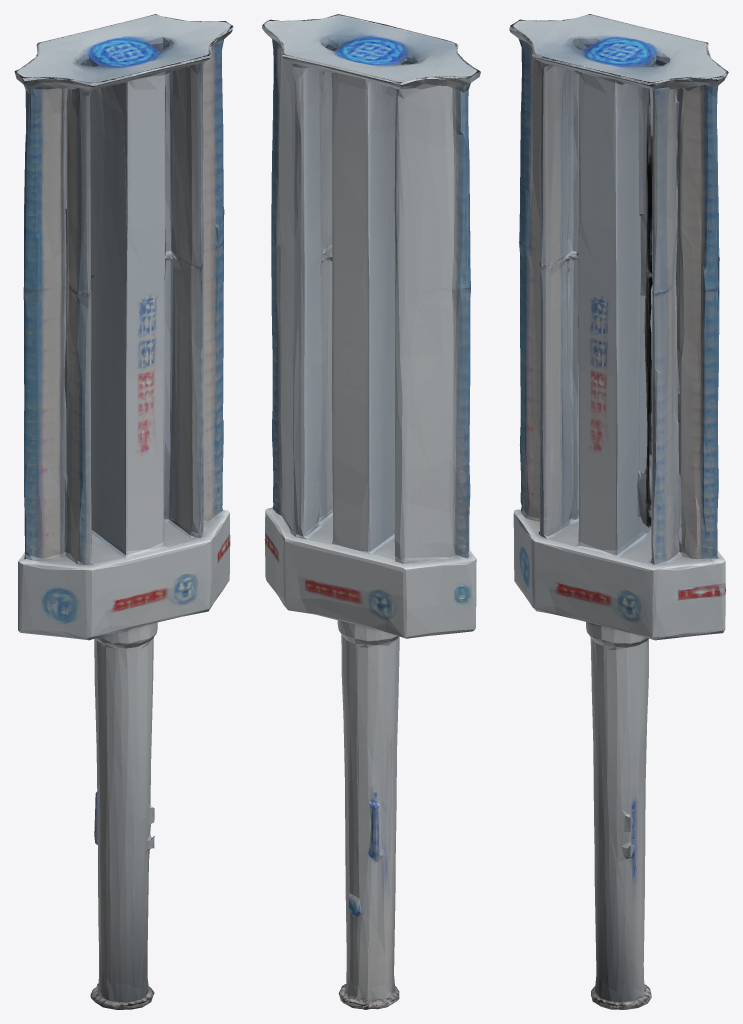
File: windturbine_wq.glb
The picture shows the model from 3 angles, left to right: view 1: azimuth 30°, elevation 25°; view 2: azimuth 150°, elevation 25°; view 3: azimuth 330°, elevation 25°; orthographic projection.
Visible parts, largest first — view 1: world; view 2: world; view 3: world.
Boxes of the visible parts, <box> form: world: <box>14,14,233,1009</box>; world: <box>262,14,480,1009</box>; world: <box>509,14,728,1009</box>.
Bounding box in the file's own units: 0.2346 × 1 × 0.11.
Materials: 1 (1 with a texture image).
